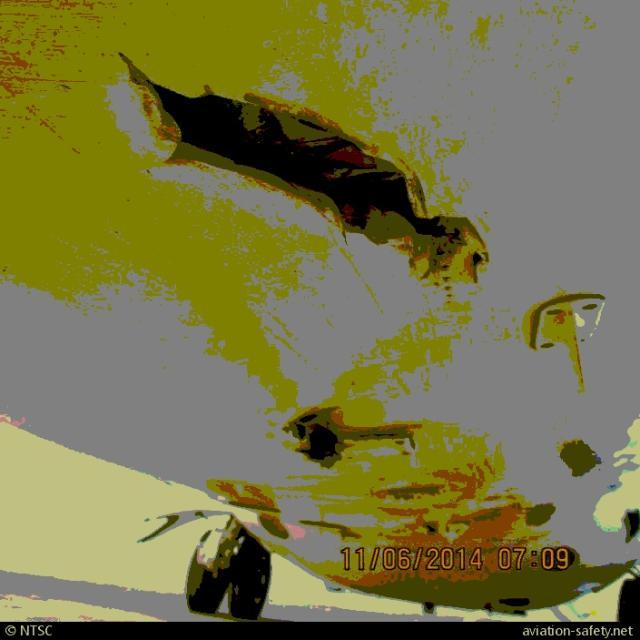crack: (115, 56, 496, 289)
